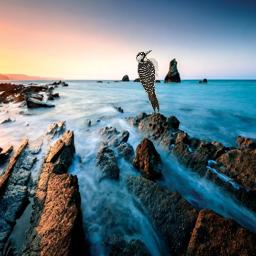Woodpecker: (136, 50, 160, 113)
